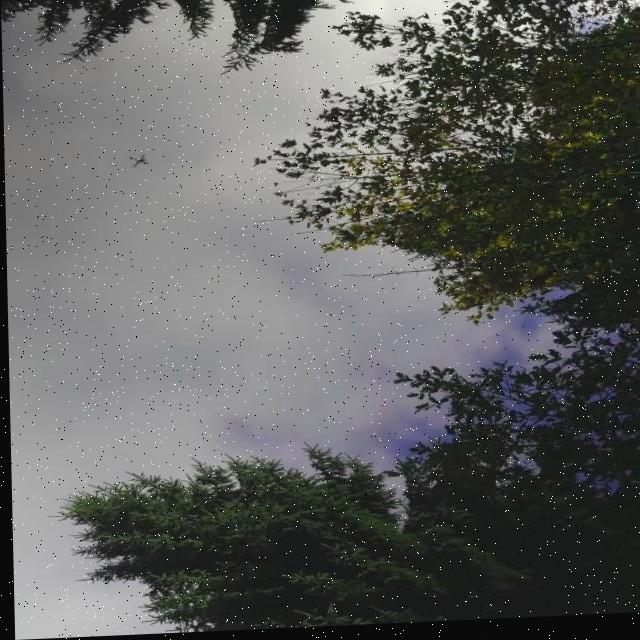drone: (123, 154, 149, 169)
